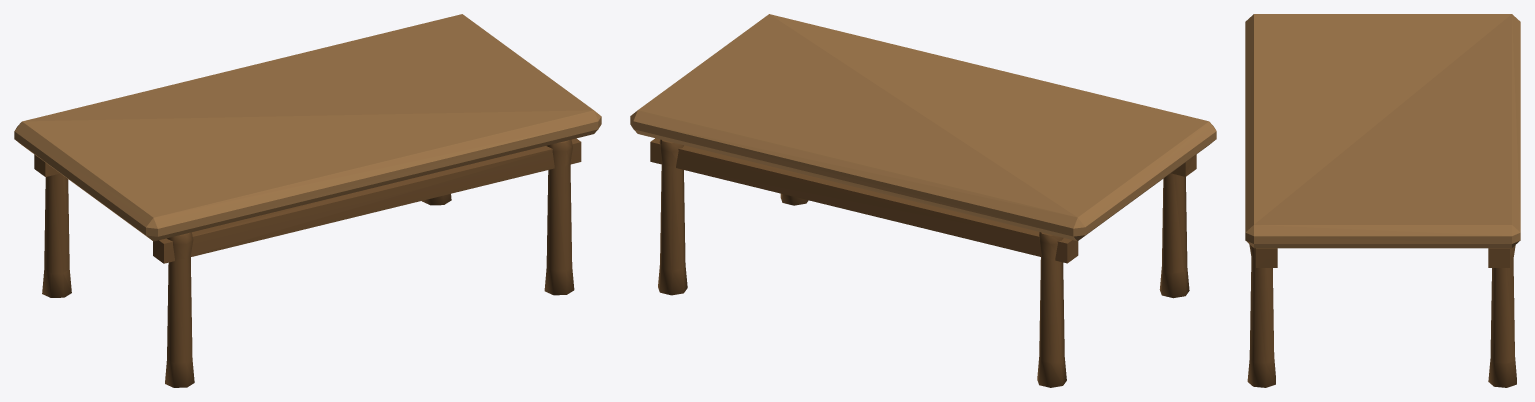
Rendered from coffee_table.glb.
3 renders of one model, left to right at view 1: azimuth 30°, elevation 25°; view 2: azimuth 150°, elevation 25°; view 3: azimuth 270°, elevation 25°, orthographic.
Visible parts, largest first — view 1: coffee_table; view 2: coffee_table; view 3: coffee_table.
Boxes of the visible parts, bbox=[...] form: coffee_table: bbox=[14, 14, 601, 387]; coffee_table: bbox=[630, 14, 1216, 387]; coffee_table: bbox=[1245, 14, 1520, 387].
Bounding box in the file's own units: 1.2 × 0.44 × 0.64.
